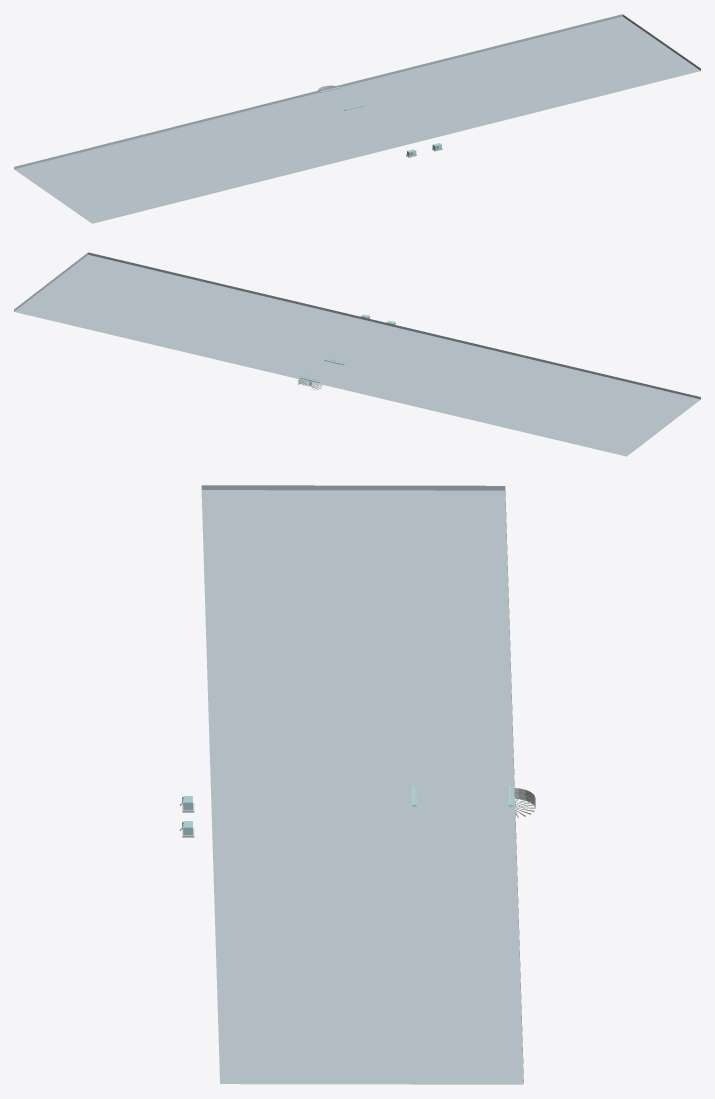
The picture shows the model from 3 angles, top to bottom: view 1: azimuth 30°, elevation 25°; view 2: azimuth 150°, elevation 25°; view 3: azimuth 270°, elevation 25°; orthographic projection. The views are drawn at different scales.
Parts seen in each view (by area): view 1: render-batch-5; view 2: render-batch-5; view 3: render-batch-5.
Boxes of the visible parts, x1=… form: render-batch-5: x1=14, y1=14, x2=700, y2=223; render-batch-5: x1=14, y1=252, x2=700, y2=456; render-batch-5: x1=179, y1=485, x2=523, y2=1084.
Size of the model in its own units: 262 by 3.65 by 66.13.
